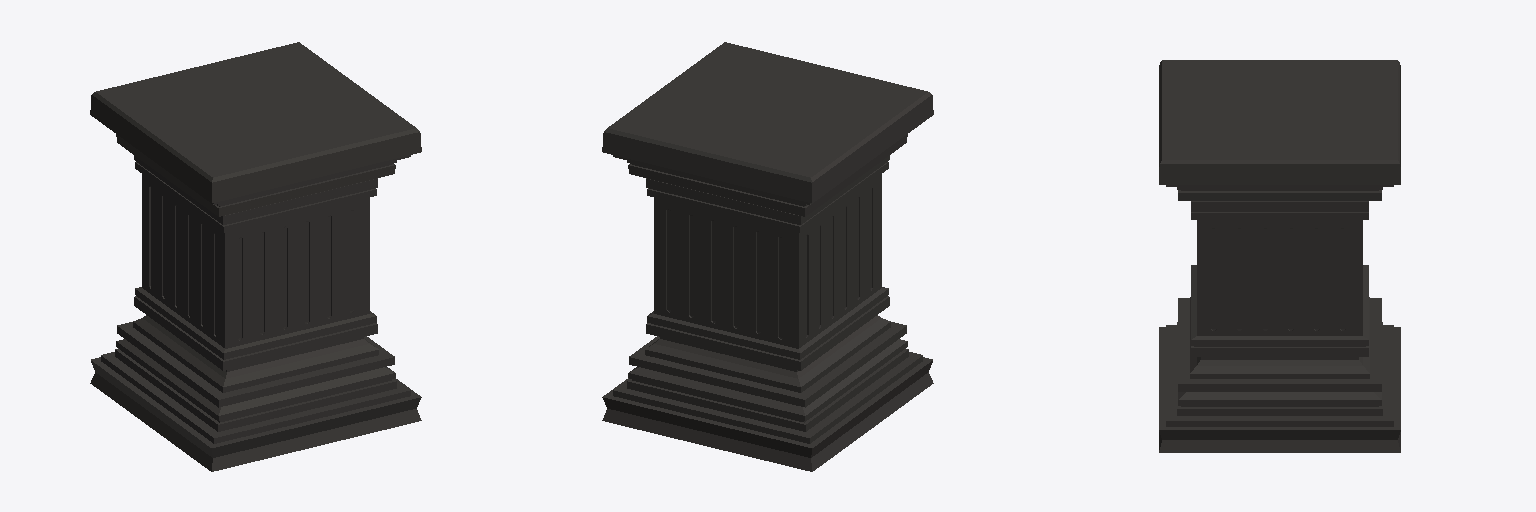
The model's file is Pedestal2.obj.
3 views of the same model, side by side, from view 1: azimuth 30°, elevation 25°; view 2: azimuth 150°, elevation 25°; view 3: azimuth 270°, elevation 25° (orthographic).
Visible parts, largest first — view 1: Pedestal2.001; view 2: Pedestal2.001; view 3: Pedestal2.001.
Part boxes in pixels (x1,y1,x2,y2): Pedestal2.001: (90,42,421,471); Pedestal2.001: (602,42,933,471); Pedestal2.001: (1159,60,1400,452).
Size of the model in its own units: 1.74 by 2.31 by 1.74.